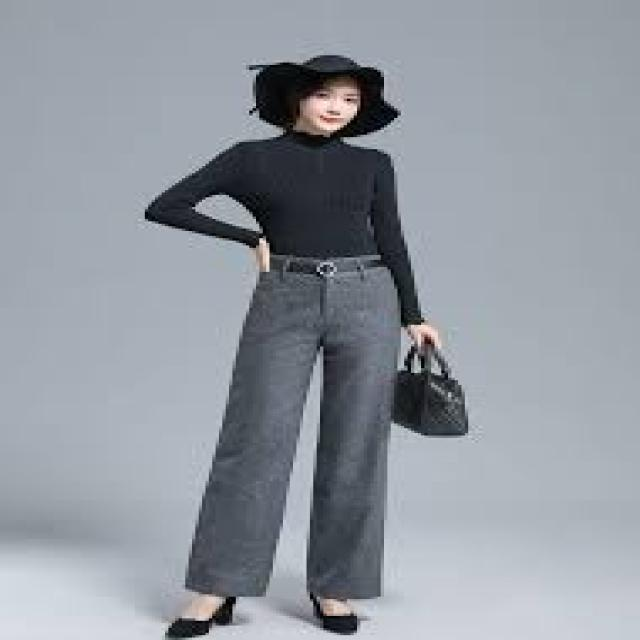pants: (189, 257, 404, 600)
